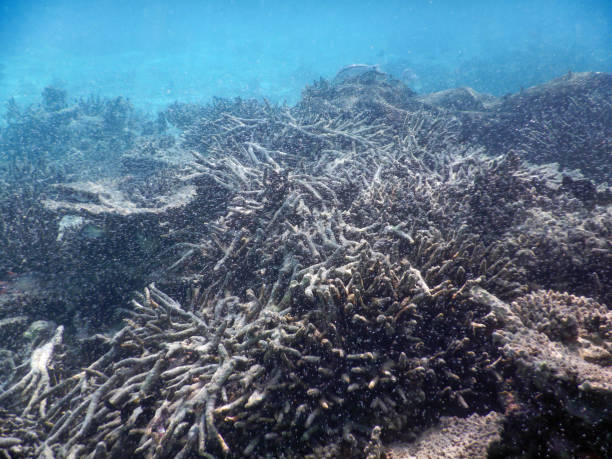dead: (108, 283, 297, 452)
